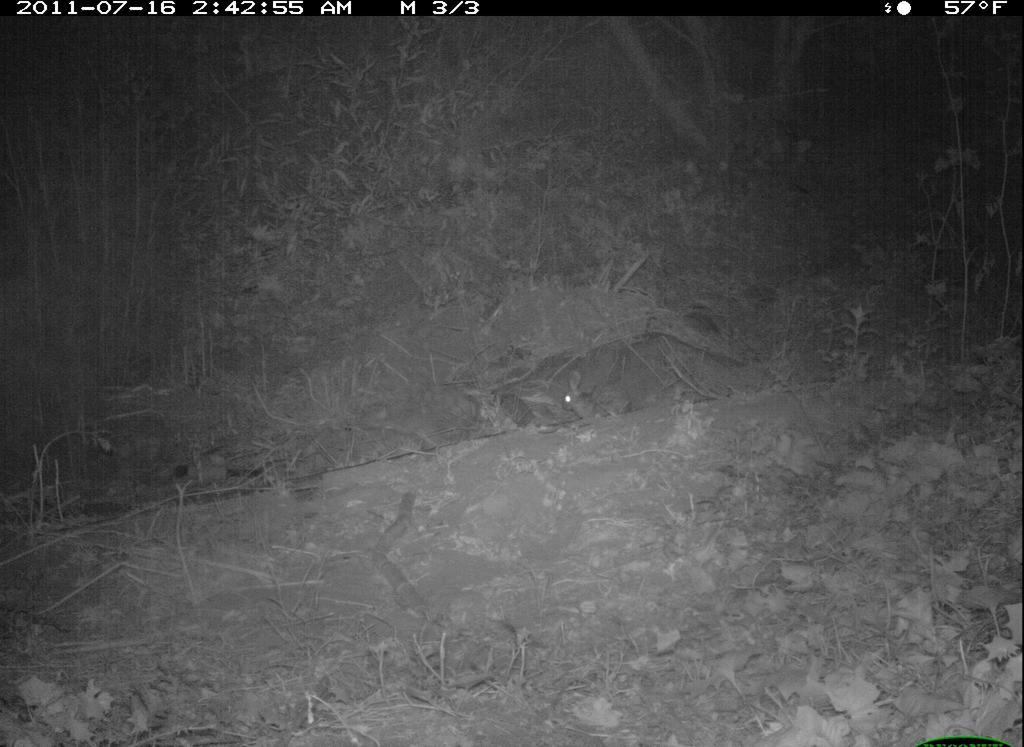rabbit: (519, 329, 689, 451)
